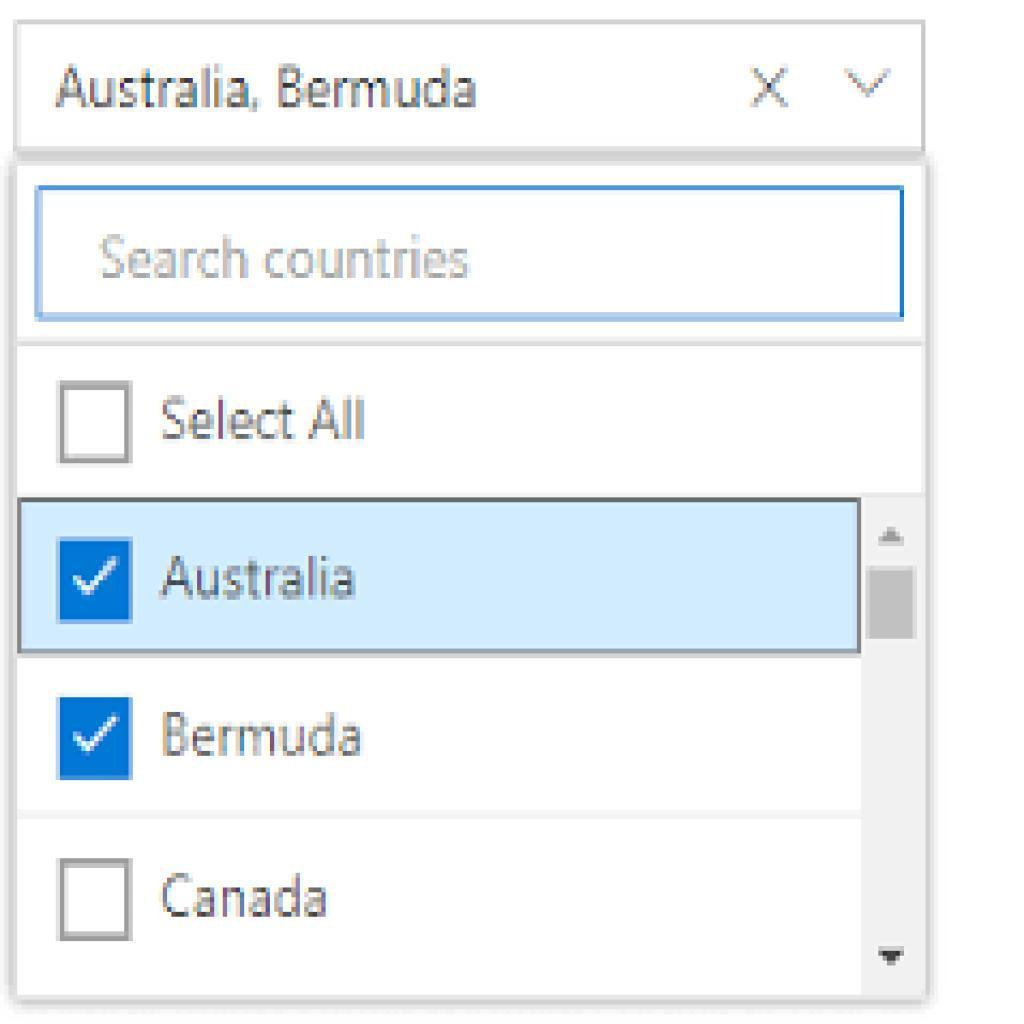checkbox: (60, 700, 133, 782), (60, 541, 135, 619), (58, 383, 131, 462), (62, 862, 129, 943)
dropdown: (14, 25, 928, 161)
input: (37, 189, 901, 317)
